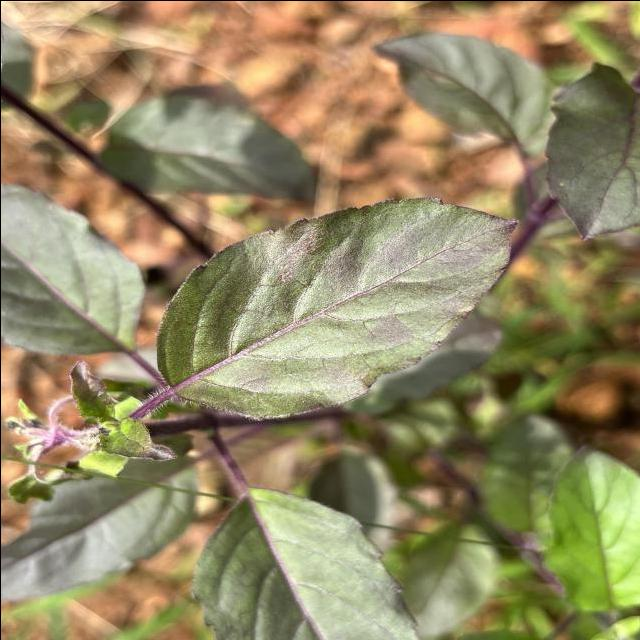Ocimum tenuiflorum: (146, 192, 528, 424)
